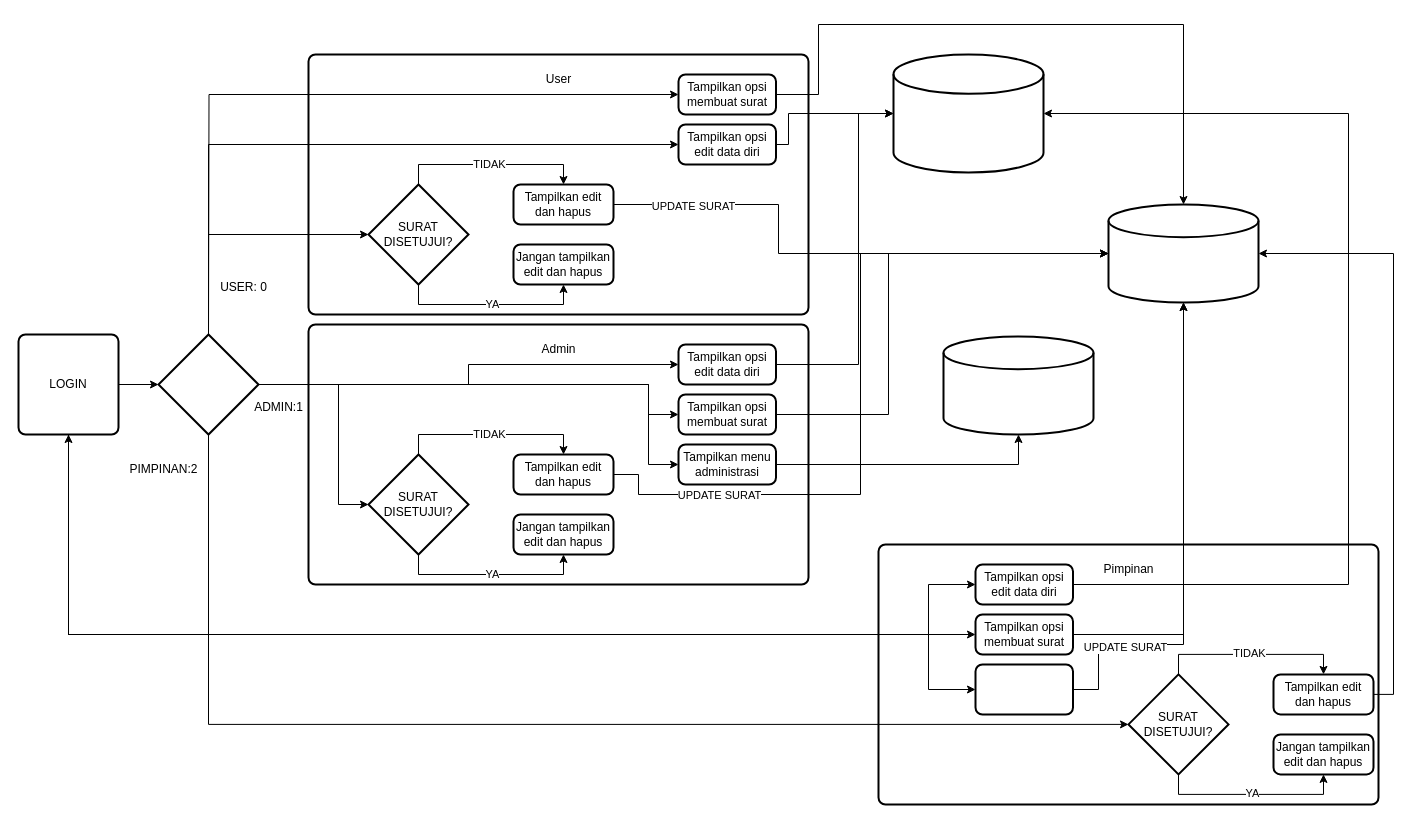
Some shapes in this 1419 by 823 pixel diagram are drawn without their labels. The shapes that lost their labels are listed below. From the top down, each one's centre as x and y in pixels, then its label:
At (968,113): "TABEL PENERBIT".
At (1183,253): "TABEL SURAT".
At (208,384): "LEVEL USER".
At (1018,385): "TABEL LAINNYA".
At (1024,689): "Tampilkan opsi menyetujui untuk semua surat".
